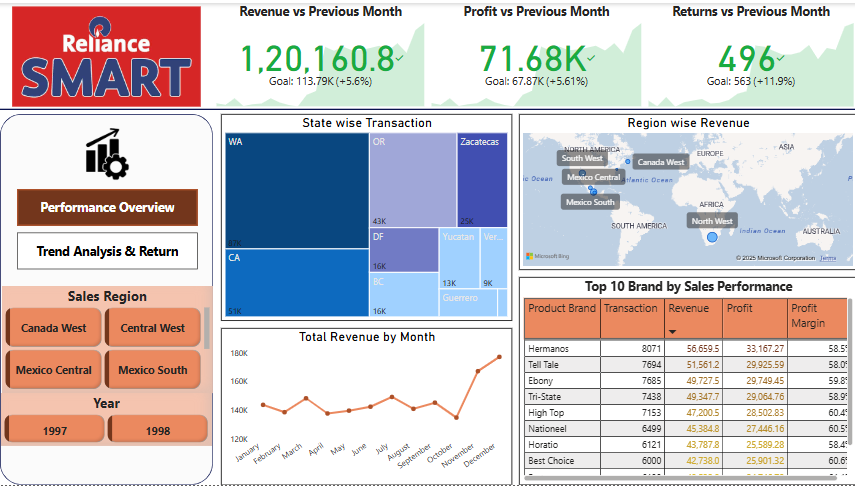

What the dashboard file says about the page in this screenshot:
{"tool":"powerbi","page":{"name":"Primary Report","canvas":[1280,720],"ordinal":0},"visuals":[{"type":"filledMap","title":"Region wise Revenue","fields":{"Series":["d_Regions.sales_region"]},"box":[764.8,158.3,515.4,240.5],"z":0},{"type":"kpi","title":"Revenue vs Previous Month","fields":{"Indicator":["Measure.Total_Revenue"],"Goal":["Measure.Previous_Month_Revenue"],"TrendLine":["d_Calendar.Start of Month"]},"box":[318.2,0,321.2,159.8],"z":1000},{"type":"kpi","title":"Profit vs Previous Month","fields":{"TrendLine":["d_Calendar.Start of Month"],"Indicator":["Measure.total_profit"],"Goal":["Measure.Previous_month_Profit"]},"box":[639.3,0,324.1,159.8],"z":2000},{"type":"kpi","title":"Returns vs Previous Month","fields":{"TrendLine":["d_Calendar.Start of Month"],"Indicator":["Measure.Total_Returns"],"Goal":["Measure.Previous_month_Return"]},"box":[963.5,0,316.7,159.8],"z":3000},{"type":"image","box":[0,0,318.2,159.8],"z":4000},{"type":"shape","box":[0,152.4,1280.2,13.4],"z":5000},{"type":"tableEx","title":"Top 10 Brand by Sales Performance","fields":{"Values":["d_Products.product_brand","Measure.Total_Transaction","Measure.Total_Revenue","Measure.total_profit","Measure.Profit Margin"]},"box":[764.8,398.8,515.4,321.2],"z":6000},{"type":"shape","box":[0,165.8,318.2,554.2],"z":7000},{"type":"advancedSlicerVisual","title":"Sales Region","fields":{"Values":["d_Regions.sales_region"]},"box":[3,422.7,315.2,159.8],"z":8000},{"type":"advancedSlicerVisual","fields":{"Values":["d_Calendar.date.Variation.Date Hierarchy.Year"]},"box":[1.5,582.6,315.2,79.2],"z":9000},{"type":"treemap","title":"State wise Transaction","fields":{"Group":["d_Stores.store_state","d_Calendar.date.Variation.Date Hierarchy.Year"],"Values":["Measure.Transaction_count"]},"box":[318.2,159.8,446.6,315.2],"z":10000},{"type":"lineChart","title":"Total Revenue by Month","fields":{"Category":["d_Calendar.date.Variation.Date Hierarchy.Month"],"Y":["Measure.Total_Revenue"]},"box":[318.2,475,446.6,245],"z":11000}]}

Visuals, with their boxes in screenshot pixels (x1, y1, x2, y2), scaled from the page's 1280x720 canvas onto the 855x486 screenshot:
"Region wise Revenue" filledMap: 511:107:854:269
"Revenue vs Previous Month" kpi: 213:0:427:108
"Profit vs Previous Month" kpi: 427:0:644:108
"Returns vs Previous Month" kpi: 644:0:854:108
image: 0:0:213:108
shape: 0:103:854:112
"Top 10 Brand by Sales Performance" tableEx: 511:269:854:485
shape: 0:112:213:485
"Sales Region" advancedSlicerVisual: 2:285:213:393
advancedSlicerVisual - d_Calendar.date.Variation.Date Hierarchy.Year: 1:393:212:447
"State wise Transaction" treemap: 213:108:511:321
"Total Revenue by Month" lineChart: 213:321:511:485
